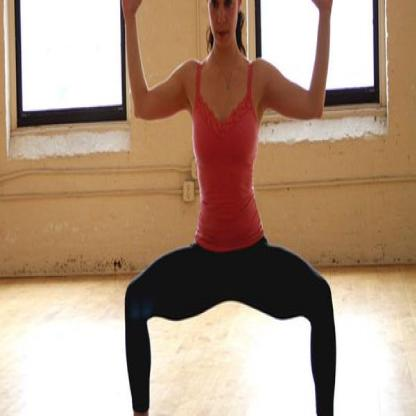godness: (106, 0, 344, 416)
